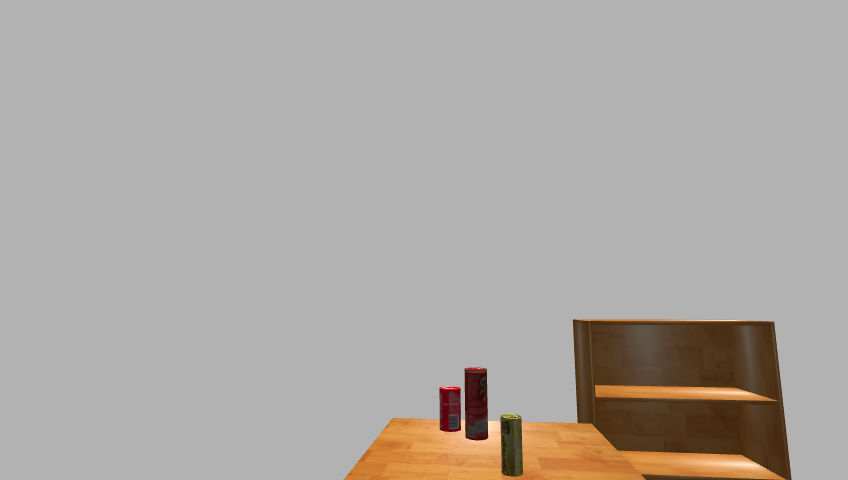biscuits pack: (500, 414, 524, 478)
bookshelf: (567, 317, 799, 480)
coke can: (438, 385, 463, 434)
dinner table: (326, 417, 664, 480)
pringles can: (462, 366, 490, 443)
